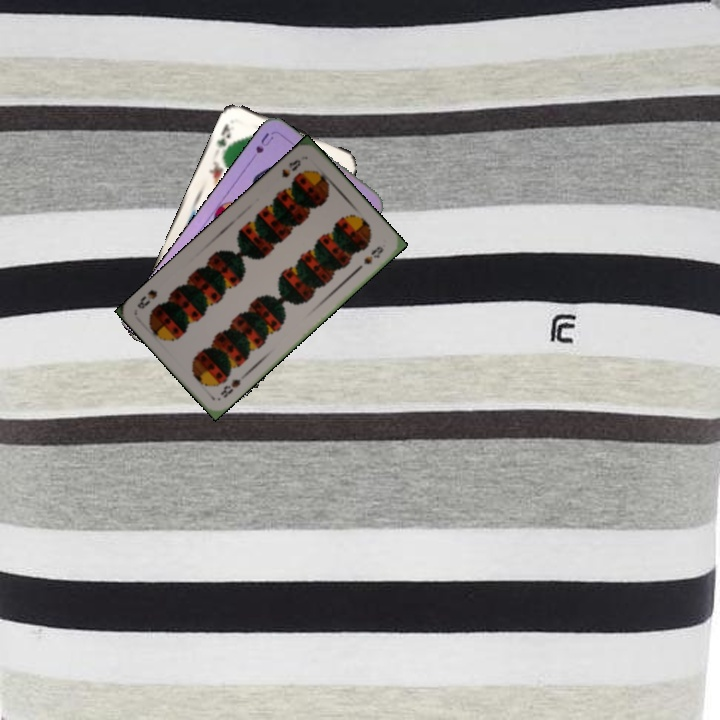GK: (213, 120, 234, 150)
S8: (216, 375, 243, 400), (278, 155, 304, 180)
SU: (252, 129, 276, 156)
